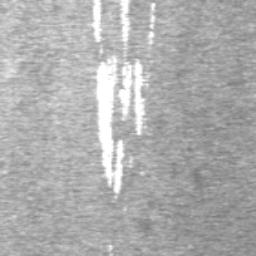White rust: (94, 56, 145, 193), (88, 0, 102, 43), (120, 0, 130, 43), (147, 3, 156, 44)
